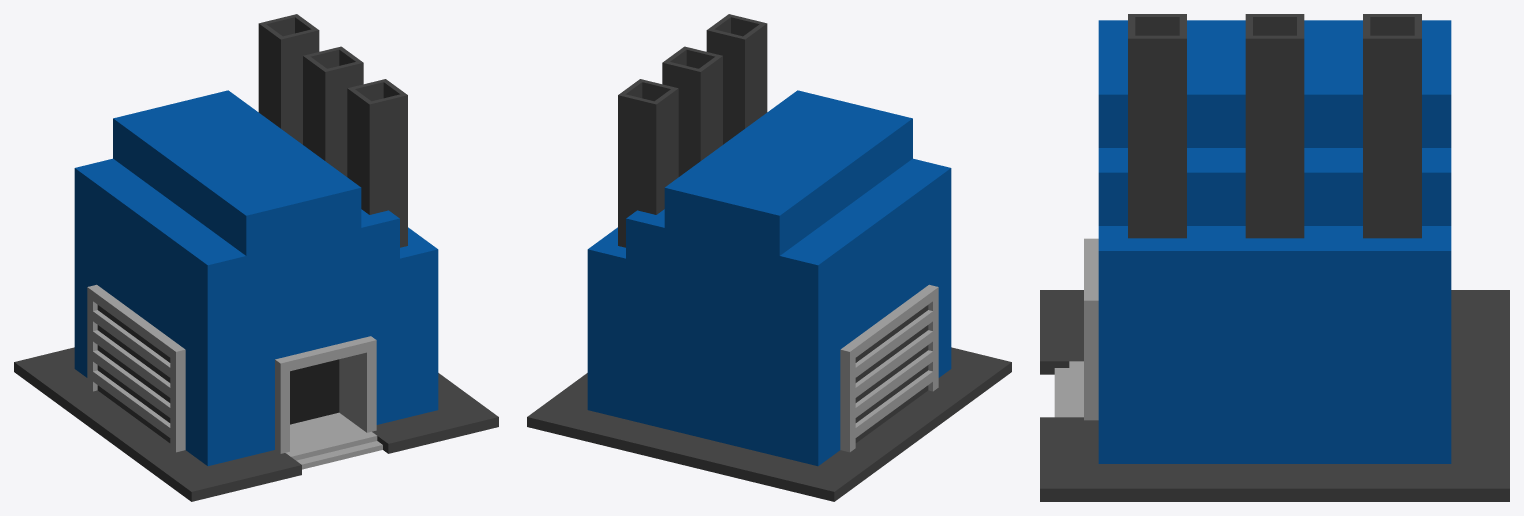
Rendered from Blue-2.obj.
The picture shows the model from 3 angles, left to right: view 1: azimuth 30°, elevation 25°; view 2: azimuth 150°, elevation 25°; view 3: azimuth 270°, elevation 25°; orthographic projection. The views are drawn at different scales.
Visible parts, largest first — view 1: Blue-2; view 2: Blue-2; view 3: Blue-2.
Boxes of the visible parts, <box> form: Blue-2: <box>14,14,498,501</box>; Blue-2: <box>527,14,1011,501</box>; Blue-2: <box>1040,14,1509,501</box>.
Bounding box in the file's own units: 64 × 64 × 64.
Materials: 1 (1 with a texture image).
